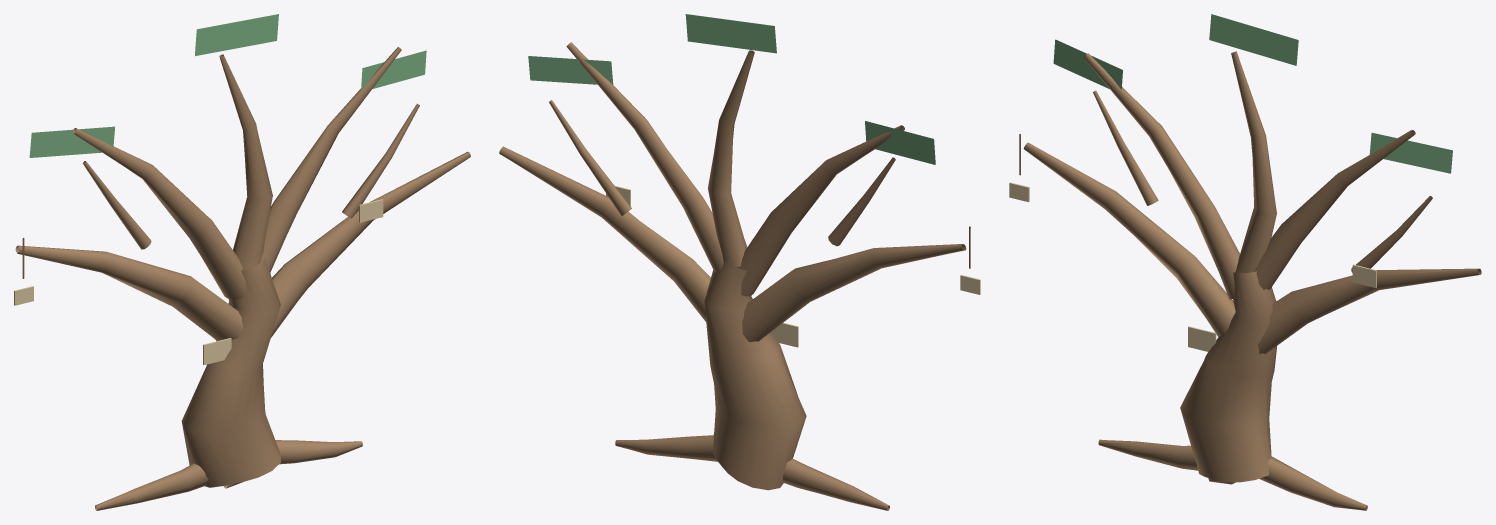
Rendered from idea-tree-blockout-template.glb.
3 views of the same model, side by side, from view 1: azimuth 30°, elevation 25°; view 2: azimuth 150°, elevation 25°; view 3: azimuth 330°, elevation 25° (orthographic). The views are drawn at different scales.
Visible parts, largest first — view 1: Trunk, MainBranch_ViewerLeft_Low, MainBranch_ViewerLeft_High, MainBranch_ViewerRight_Low, MainBranch_Center, MainBranch_ViewerRight_High, LeafCluster_Center_proxy, ButtressRoot_ViewerLeft, LeafCluster_ViewerLeft_proxy, ButtressRoot_ViewerRight, LeafCluster_ViewerRight_proxy, SecondaryBranch_ViewerRight (+2 smaller); view 2: Trunk, MainBranch_ViewerLeft_Low, MainBranch_ViewerRight_Low, MainBranch_ViewerLeft_High, MainBranch_ViewerRight_High, MainBranch_Center, LeafCluster_Center_proxy, ButtressRoot_ViewerLeft, LeafCluster_ViewerRight_proxy, ButtressRoot_ViewerRight, LeafCluster_ViewerLeft_proxy, SecondaryBranch_ViewerRight (+1 smaller); view 3: Trunk, MainBranch_ViewerLeft_Low, MainBranch_ViewerRight_Low, MainBranch_ViewerLeft_High, MainBranch_ViewerRight_High, MainBranch_Center, LeafCluster_Center_proxy, ButtressRoot_ViewerRight, LeafCluster_ViewerRight_proxy, ButtressRoot_ViewerLeft, LeafCluster_ViewerLeft_proxy, SecondaryBranch_ViewerLeft (+2 smaller).
Boxes of the visible parts, box(x1,y1,x2,y2) form: Trunk: box(181, 259, 280, 487); MainBranch_ViewerLeft_Low: box(15, 245, 243, 340); MainBranch_ViewerLeft_High: box(73, 128, 246, 299); MainBranch_ViewerRight_Low: box(270, 151, 470, 337); MainBranch_Center: box(219, 54, 272, 270); MainBranch_ViewerRight_High: box(260, 47, 401, 272); LeafCluster_Center_proxy: box(195, 14, 278, 55); ButtressRoot_ViewerLeft: box(95, 463, 208, 510); LeafCluster_ViewerLeft_proxy: box(29, 126, 114, 157); ButtressRoot_ViewerRight: box(275, 440, 362, 464); LeafCluster_ViewerRight_proxy: box(361, 50, 426, 91); SecondaryBranch_ViewerRight: box(342, 104, 419, 218); Trunk: box(704, 260, 806, 490); MainBranch_ViewerLeft_Low: box(742, 244, 966, 341); MainBranch_ViewerRight_Low: box(499, 146, 710, 321); MainBranch_ViewerLeft_High: box(737, 125, 904, 296); MainBranch_ViewerRight_High: box(566, 42, 723, 272); MainBranch_Center: box(708, 50, 754, 266); LeafCluster_Center_proxy: box(685, 14, 776, 53); ButtressRoot_ViewerLeft: box(783, 458, 889, 510); LeafCluster_ViewerRight_proxy: box(528, 56, 613, 84); ButtressRoot_ViewerRight: box(615, 435, 717, 461); LeafCluster_ViewerLeft_proxy: box(865, 121, 935, 164); SecondaryBranch_ViewerRight: box(549, 100, 631, 215); Trunk: box(1180, 271, 1276, 482); MainBranch_ViewerLeft_Low: box(1023, 142, 1235, 336); MainBranch_ViewerRight_Low: box(1258, 268, 1481, 354); MainBranch_ViewerLeft_High: box(1083, 53, 1239, 299); MainBranch_ViewerRight_High: box(1254, 130, 1415, 290); MainBranch_Center: box(1231, 51, 1276, 273); LeafCluster_Center_proxy: box(1209, 14, 1298, 65); ButtressRoot_ViewerRight: box(1259, 456, 1367, 510); LeafCluster_ViewerRight_proxy: box(1369, 132, 1452, 173); ButtressRoot_ViewerLeft: box(1098, 439, 1197, 470); LeafCluster_ViewerLeft_proxy: box(1053, 39, 1122, 89); SecondaryBranch_ViewerLeft: box(1093, 90, 1158, 205).
Bounding box in the file's own units: 8.7 × 8.18 × 1.1.
